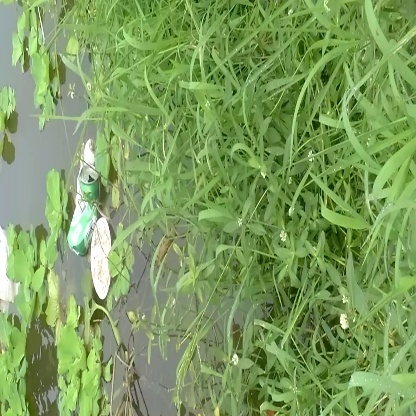bottle: (64, 163, 105, 257)
